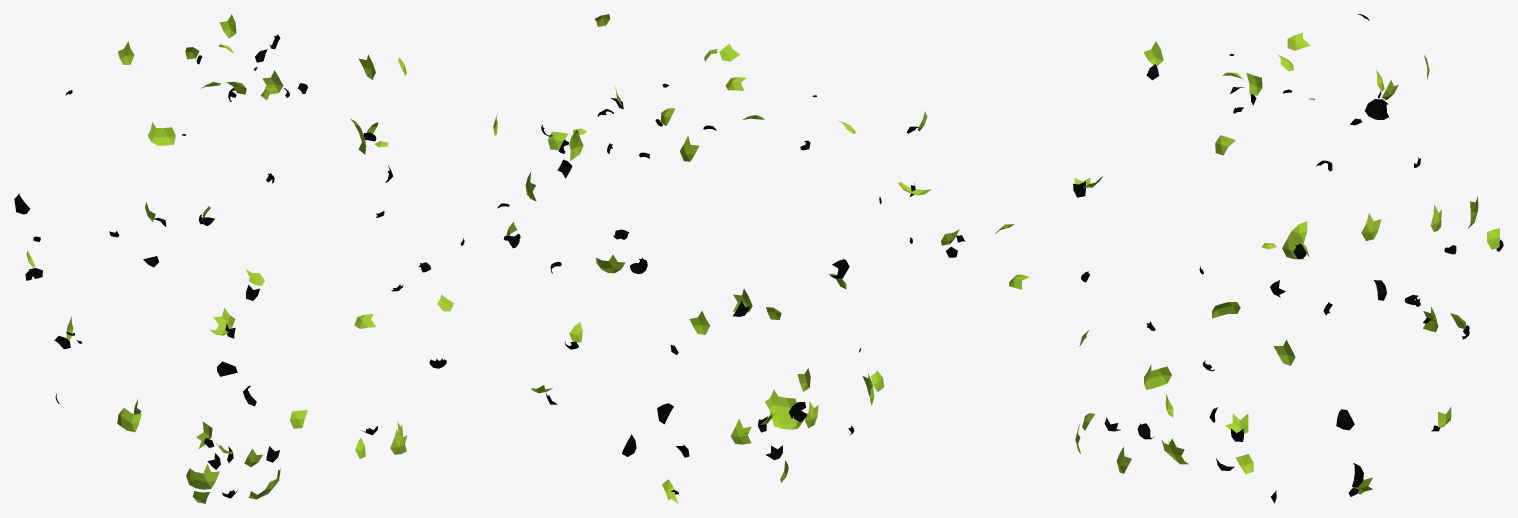
The model's file is explode.f0021.glb.
3 views of the same model, side by side, from view 1: azimuth 30°, elevation 25°; view 2: azimuth 150°, elevation 25°; view 3: azimuth 270°, elevation 25° (orthographic). The views are drawn at different scales.
Visible parts, largest first — view 1: Body.001; view 2: Body.001; view 3: Body.001.
Boxes of the visible parts, bbox=[...] form: Body.001: bbox=[14, 14, 464, 503]; Body.001: bbox=[493, 14, 965, 503]; Body.001: bbox=[995, 14, 1503, 503].
Size of the model in its own units: 15.93 by 16.35 by 16.41.
1 material, 1 textured.
